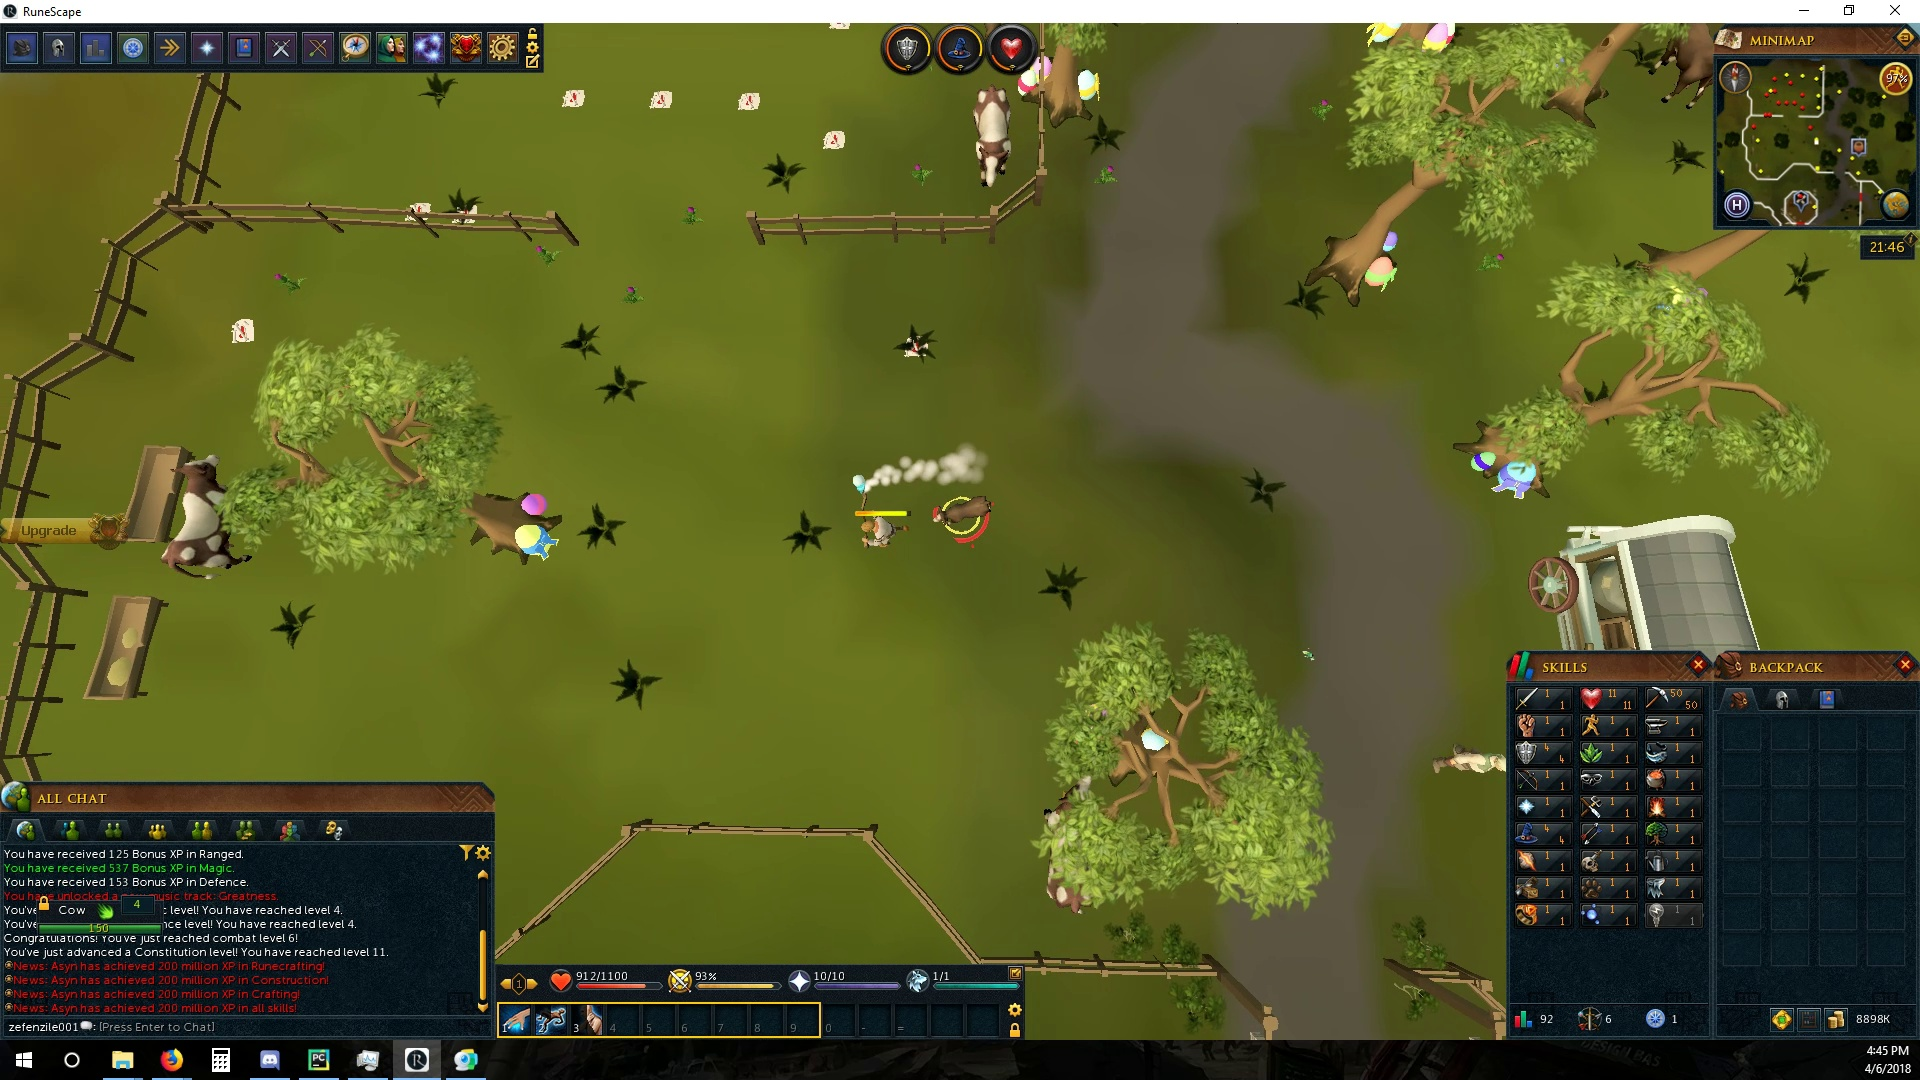cow: (156, 452, 258, 580), (1038, 771, 1102, 916), (1648, 21, 1716, 117), (971, 84, 1017, 194)
cow_drop: (224, 313, 258, 345), (898, 332, 934, 359), (816, 124, 849, 152), (401, 200, 429, 225), (737, 86, 764, 111), (647, 88, 673, 112), (559, 88, 585, 108)
